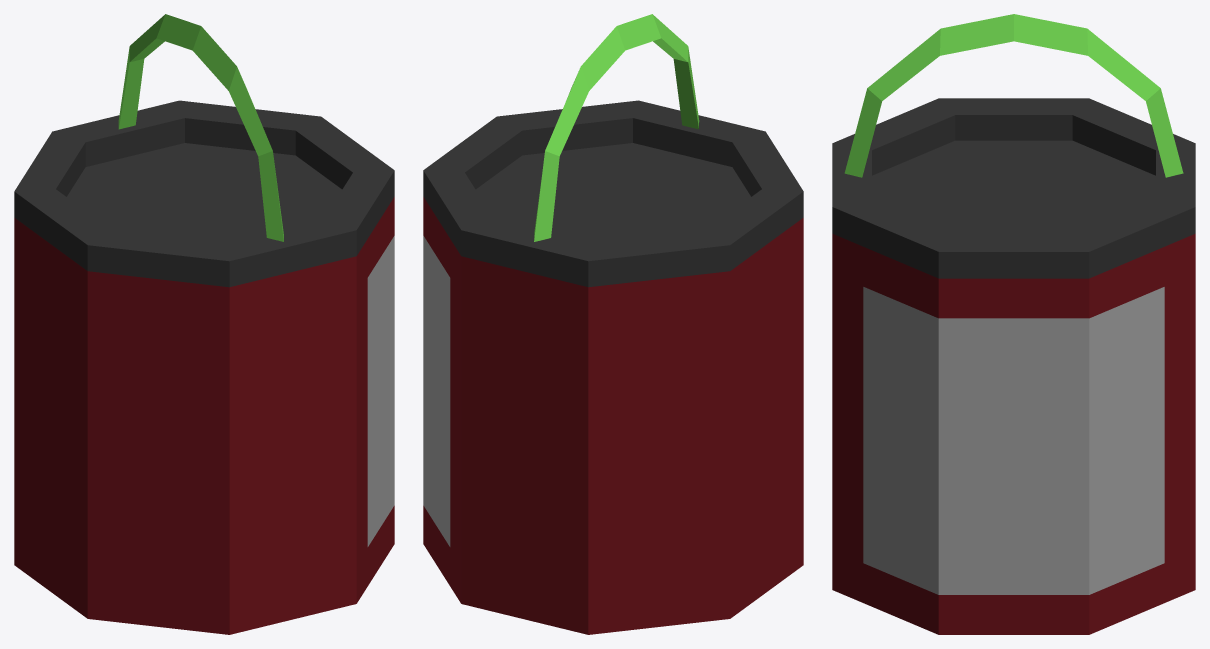
Rendered from Balde03.fbx.
3 views of the same model, side by side, from view 1: azimuth 30°, elevation 25°; view 2: azimuth 150°, elevation 25°; view 3: azimuth 270°, elevation 25° (orthographic). The views are drawn at different scales.
Parts seen in each view (by area): view 1: Cylinder.076; view 2: Cylinder.076; view 3: Cylinder.076.
Part boxes in pixels (bbox=[...]): Cylinder.076: bbox=[14, 14, 394, 634]; Cylinder.076: bbox=[423, 14, 803, 634]; Cylinder.076: bbox=[832, 14, 1195, 634].
Bounding box in the file's own units: 46.43 × 76.51 × 46.43.
